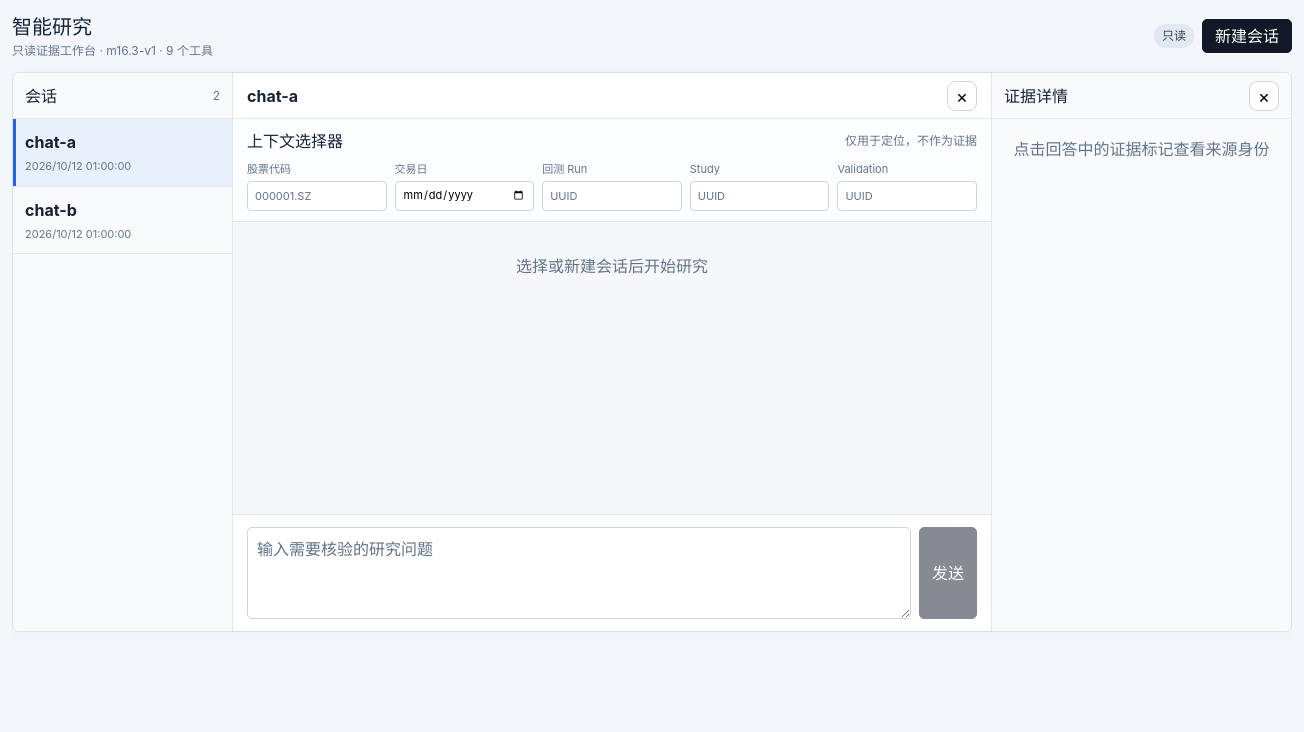
it: recovers a committed answer after a lost response without another POST
Type "question" into the text box with placeholder "输入需要核验的研究问题" at (579, 573), box x1=247 y1=527 x2=911 y2=619
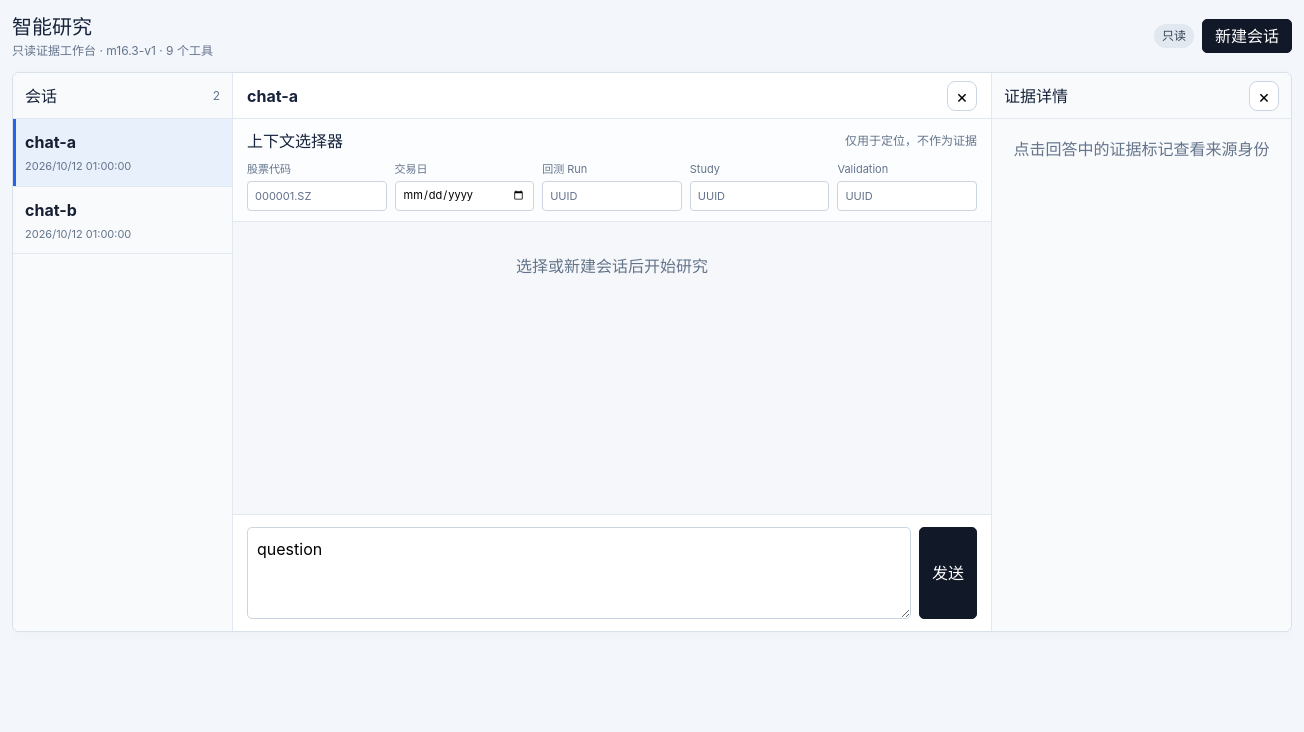
Submit the form with class "agent-composer", box x1=233 y1=514 x2=991 y2=631
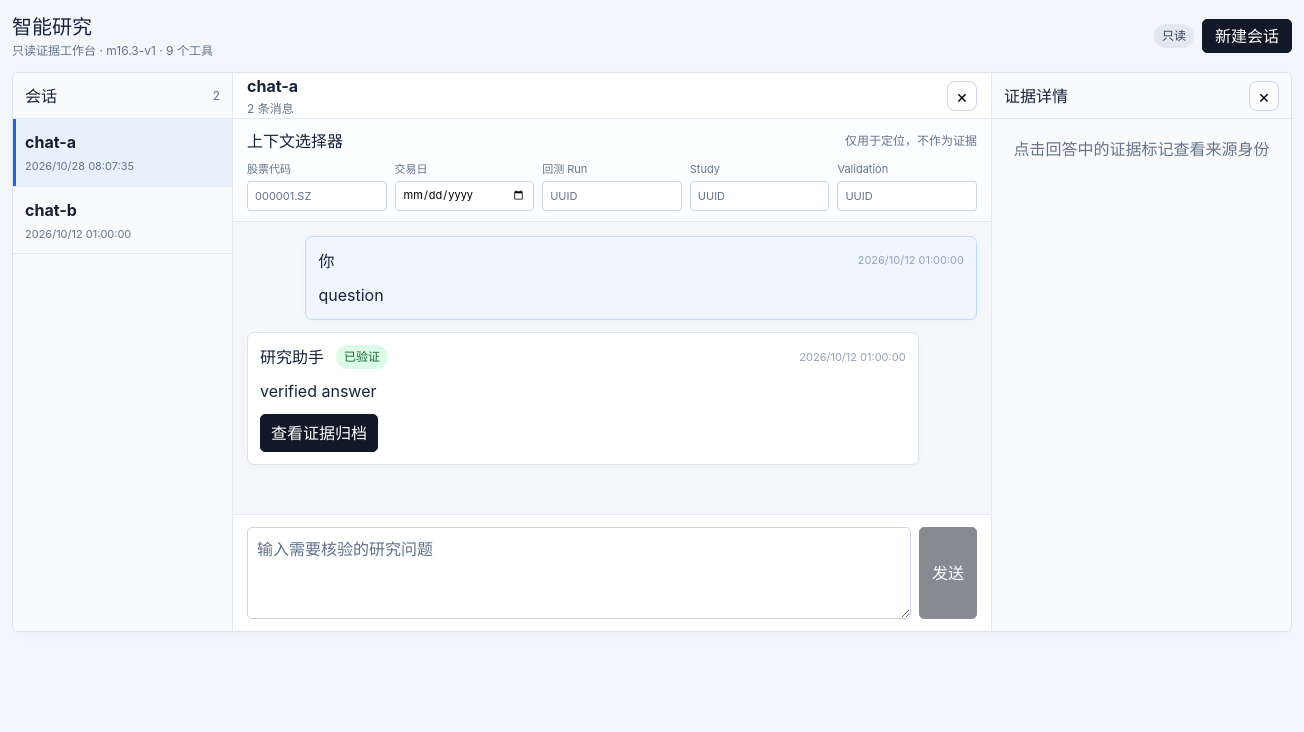
Now the number of elements with class "agent-message" is 2, box x1=305 y1=236 x2=977 y2=320; x1=247 y1=332 x2=919 y2=465
Now the text "verified answer" is shown, box x1=260 y1=381 x2=376 y2=401
